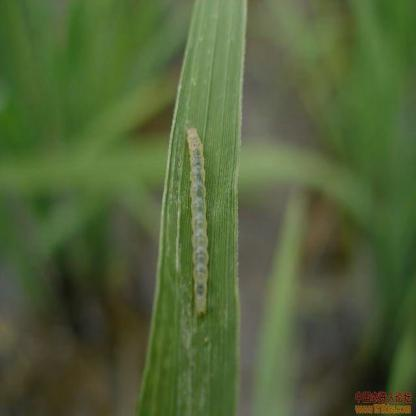leaf-folder: (174, 115, 226, 335)
